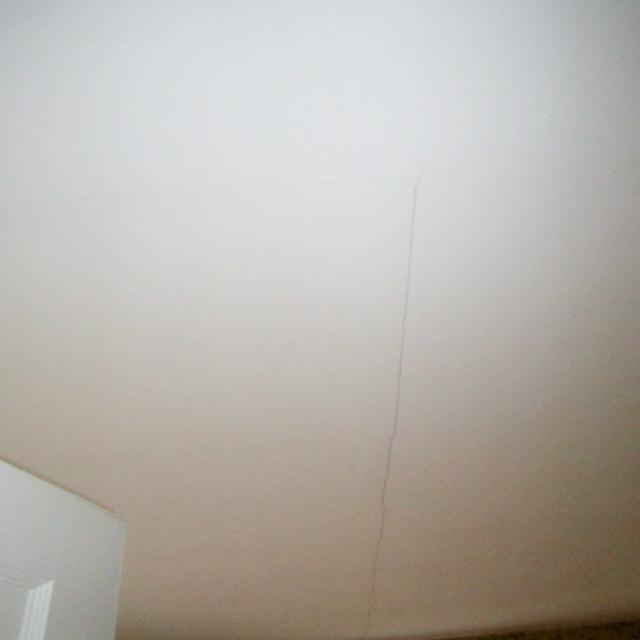leak: (368, 161, 424, 636)
